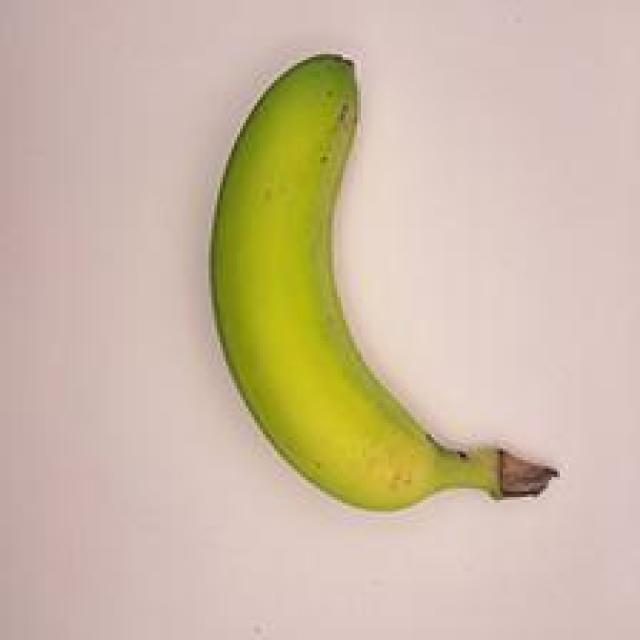Unripe: (170, 21, 565, 546)
